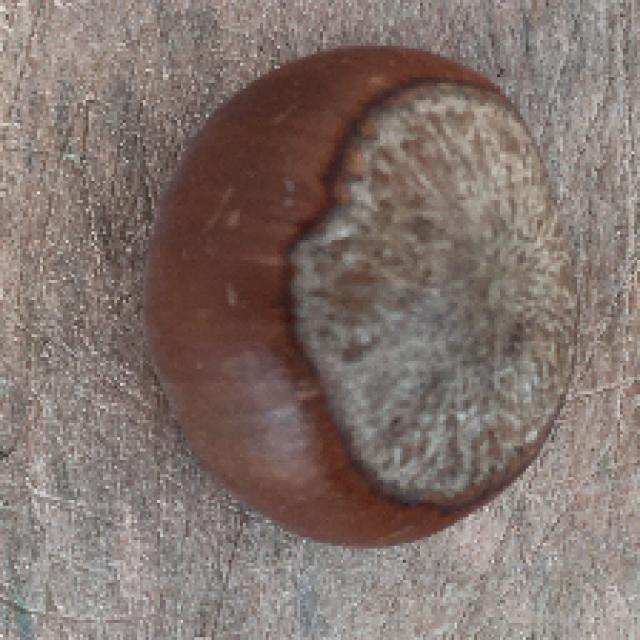DamagedHazelnut: (138, 50, 577, 549)
